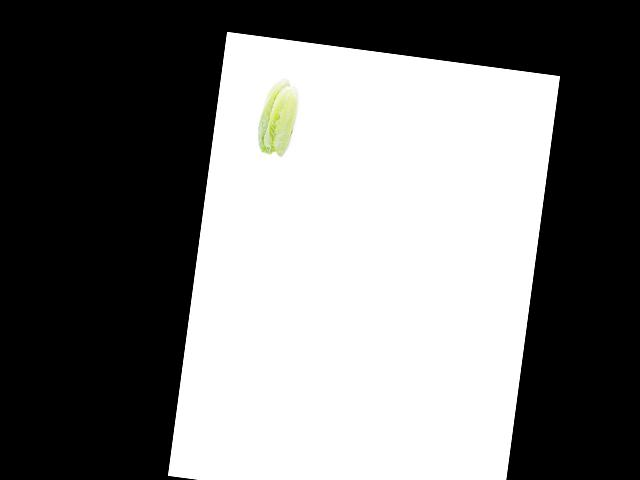lettuce: (255, 76, 305, 159)
